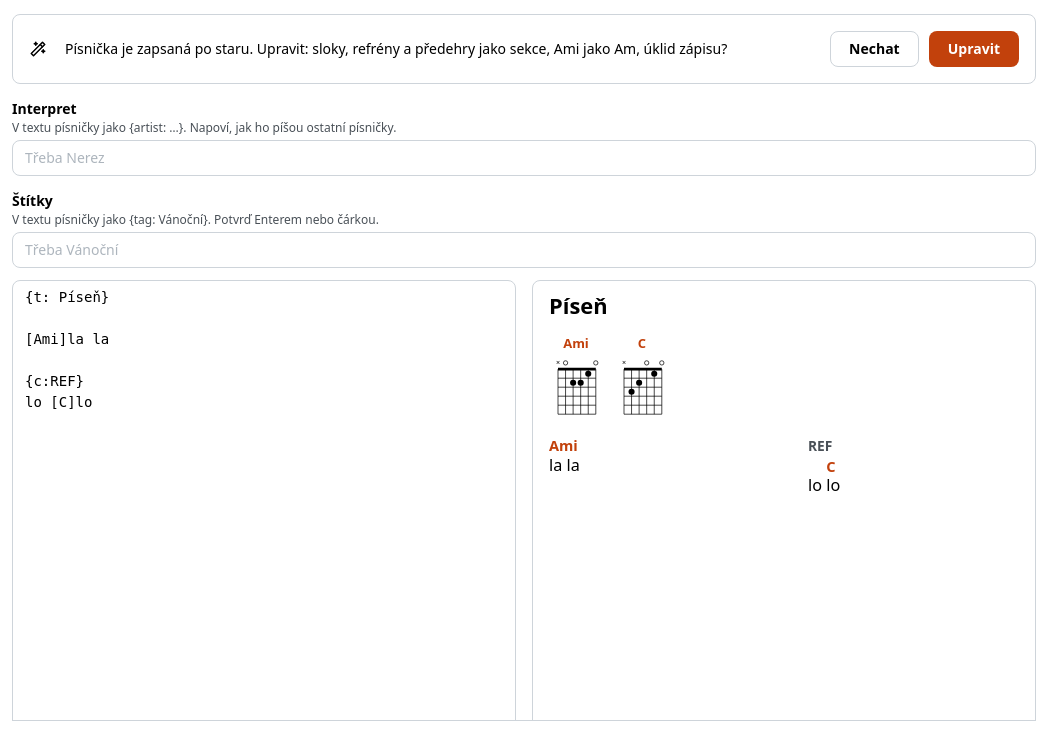
Scenario: ChordProEditor › offers to write a song from the old songbook this songbook’s way, tidied (D151)
Expected: the text "Písnička je zapsaná po staru. Upravit: sloky, refrény a předehry jako sekce, Ami jako Am, úklid zápisu?" is shown, [65,39,727,58]
Click the button "Upravit": [974, 49] box [929,31,1019,67]
(page scrolled)
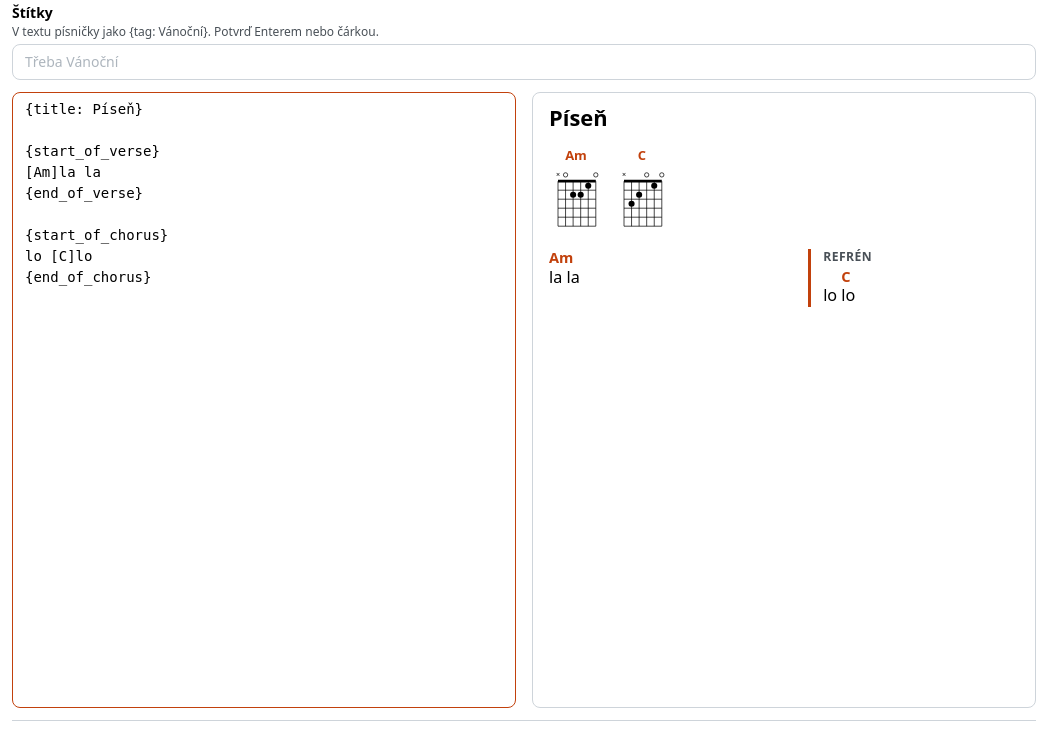
Now the text "Upravit" is gone
